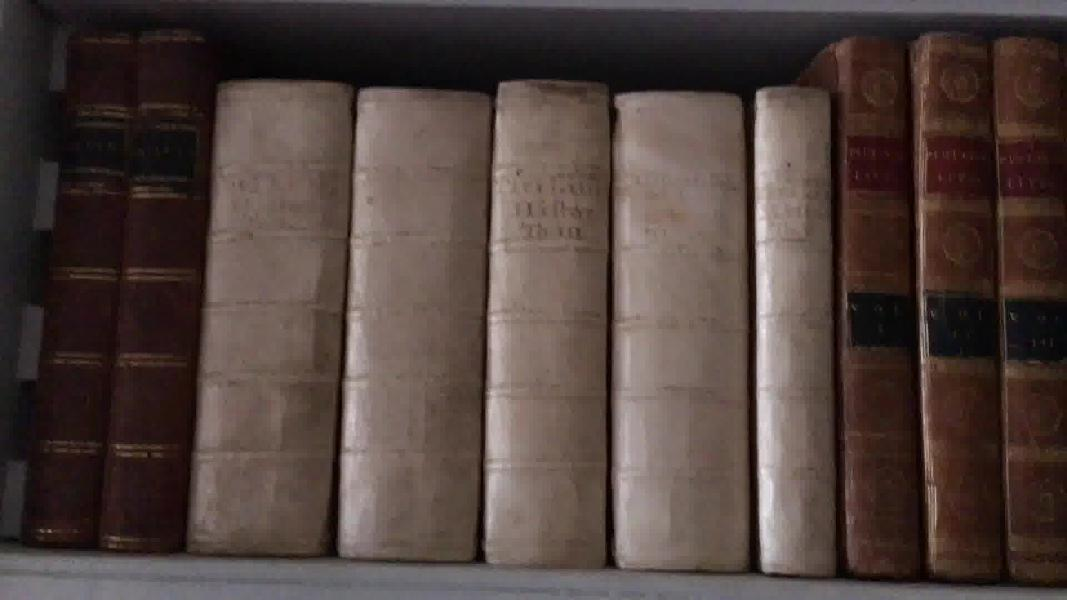Kk4-1_2: (13, 2, 211, 578)
Kk4-3_7: (171, 63, 847, 600)
Kk4-8_13: (817, 34, 1067, 591)
